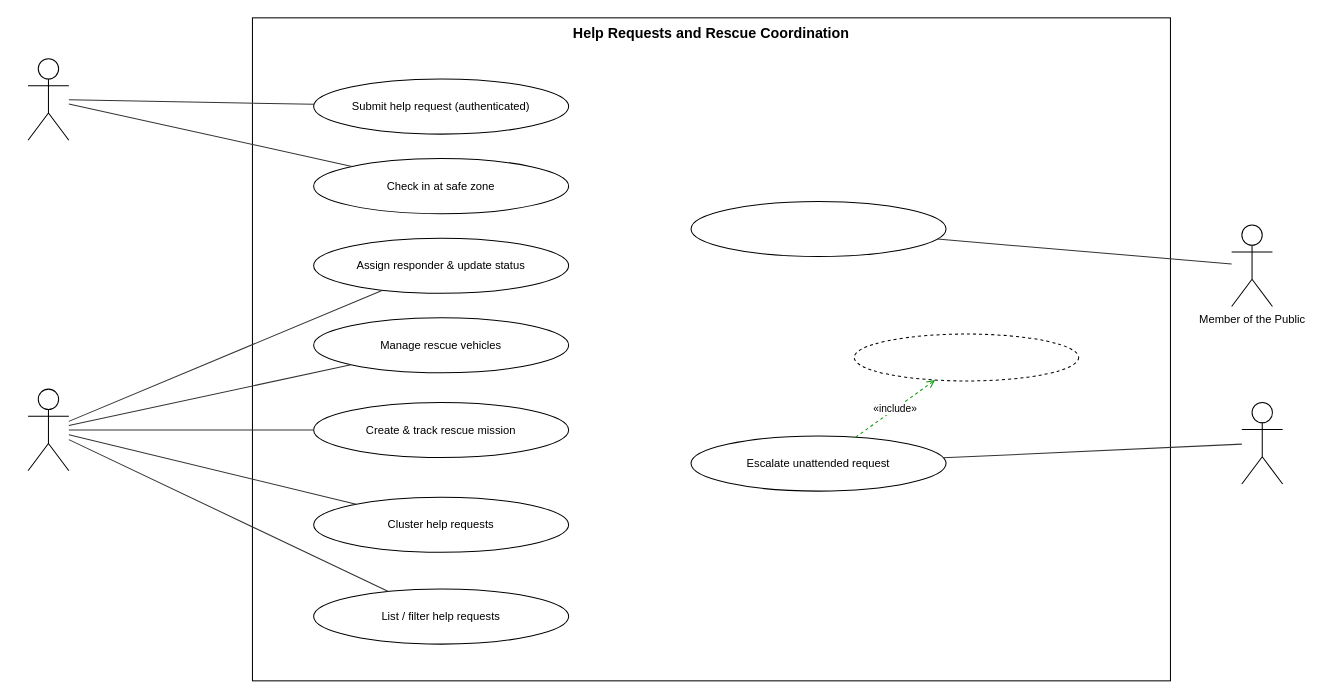
This 1325x699 diagram has some shape labels left out. Here are the shapes that lost their labels. From the top down, the box of each, then its label:
(27, 58, 69, 140): Citizen
(690, 200, 946, 257): Submit public help request
(853, 333, 1079, 381): Notify officers
(27, 388, 69, 471): DMC Officer
(1241, 401, 1283, 484): System Scheduler
